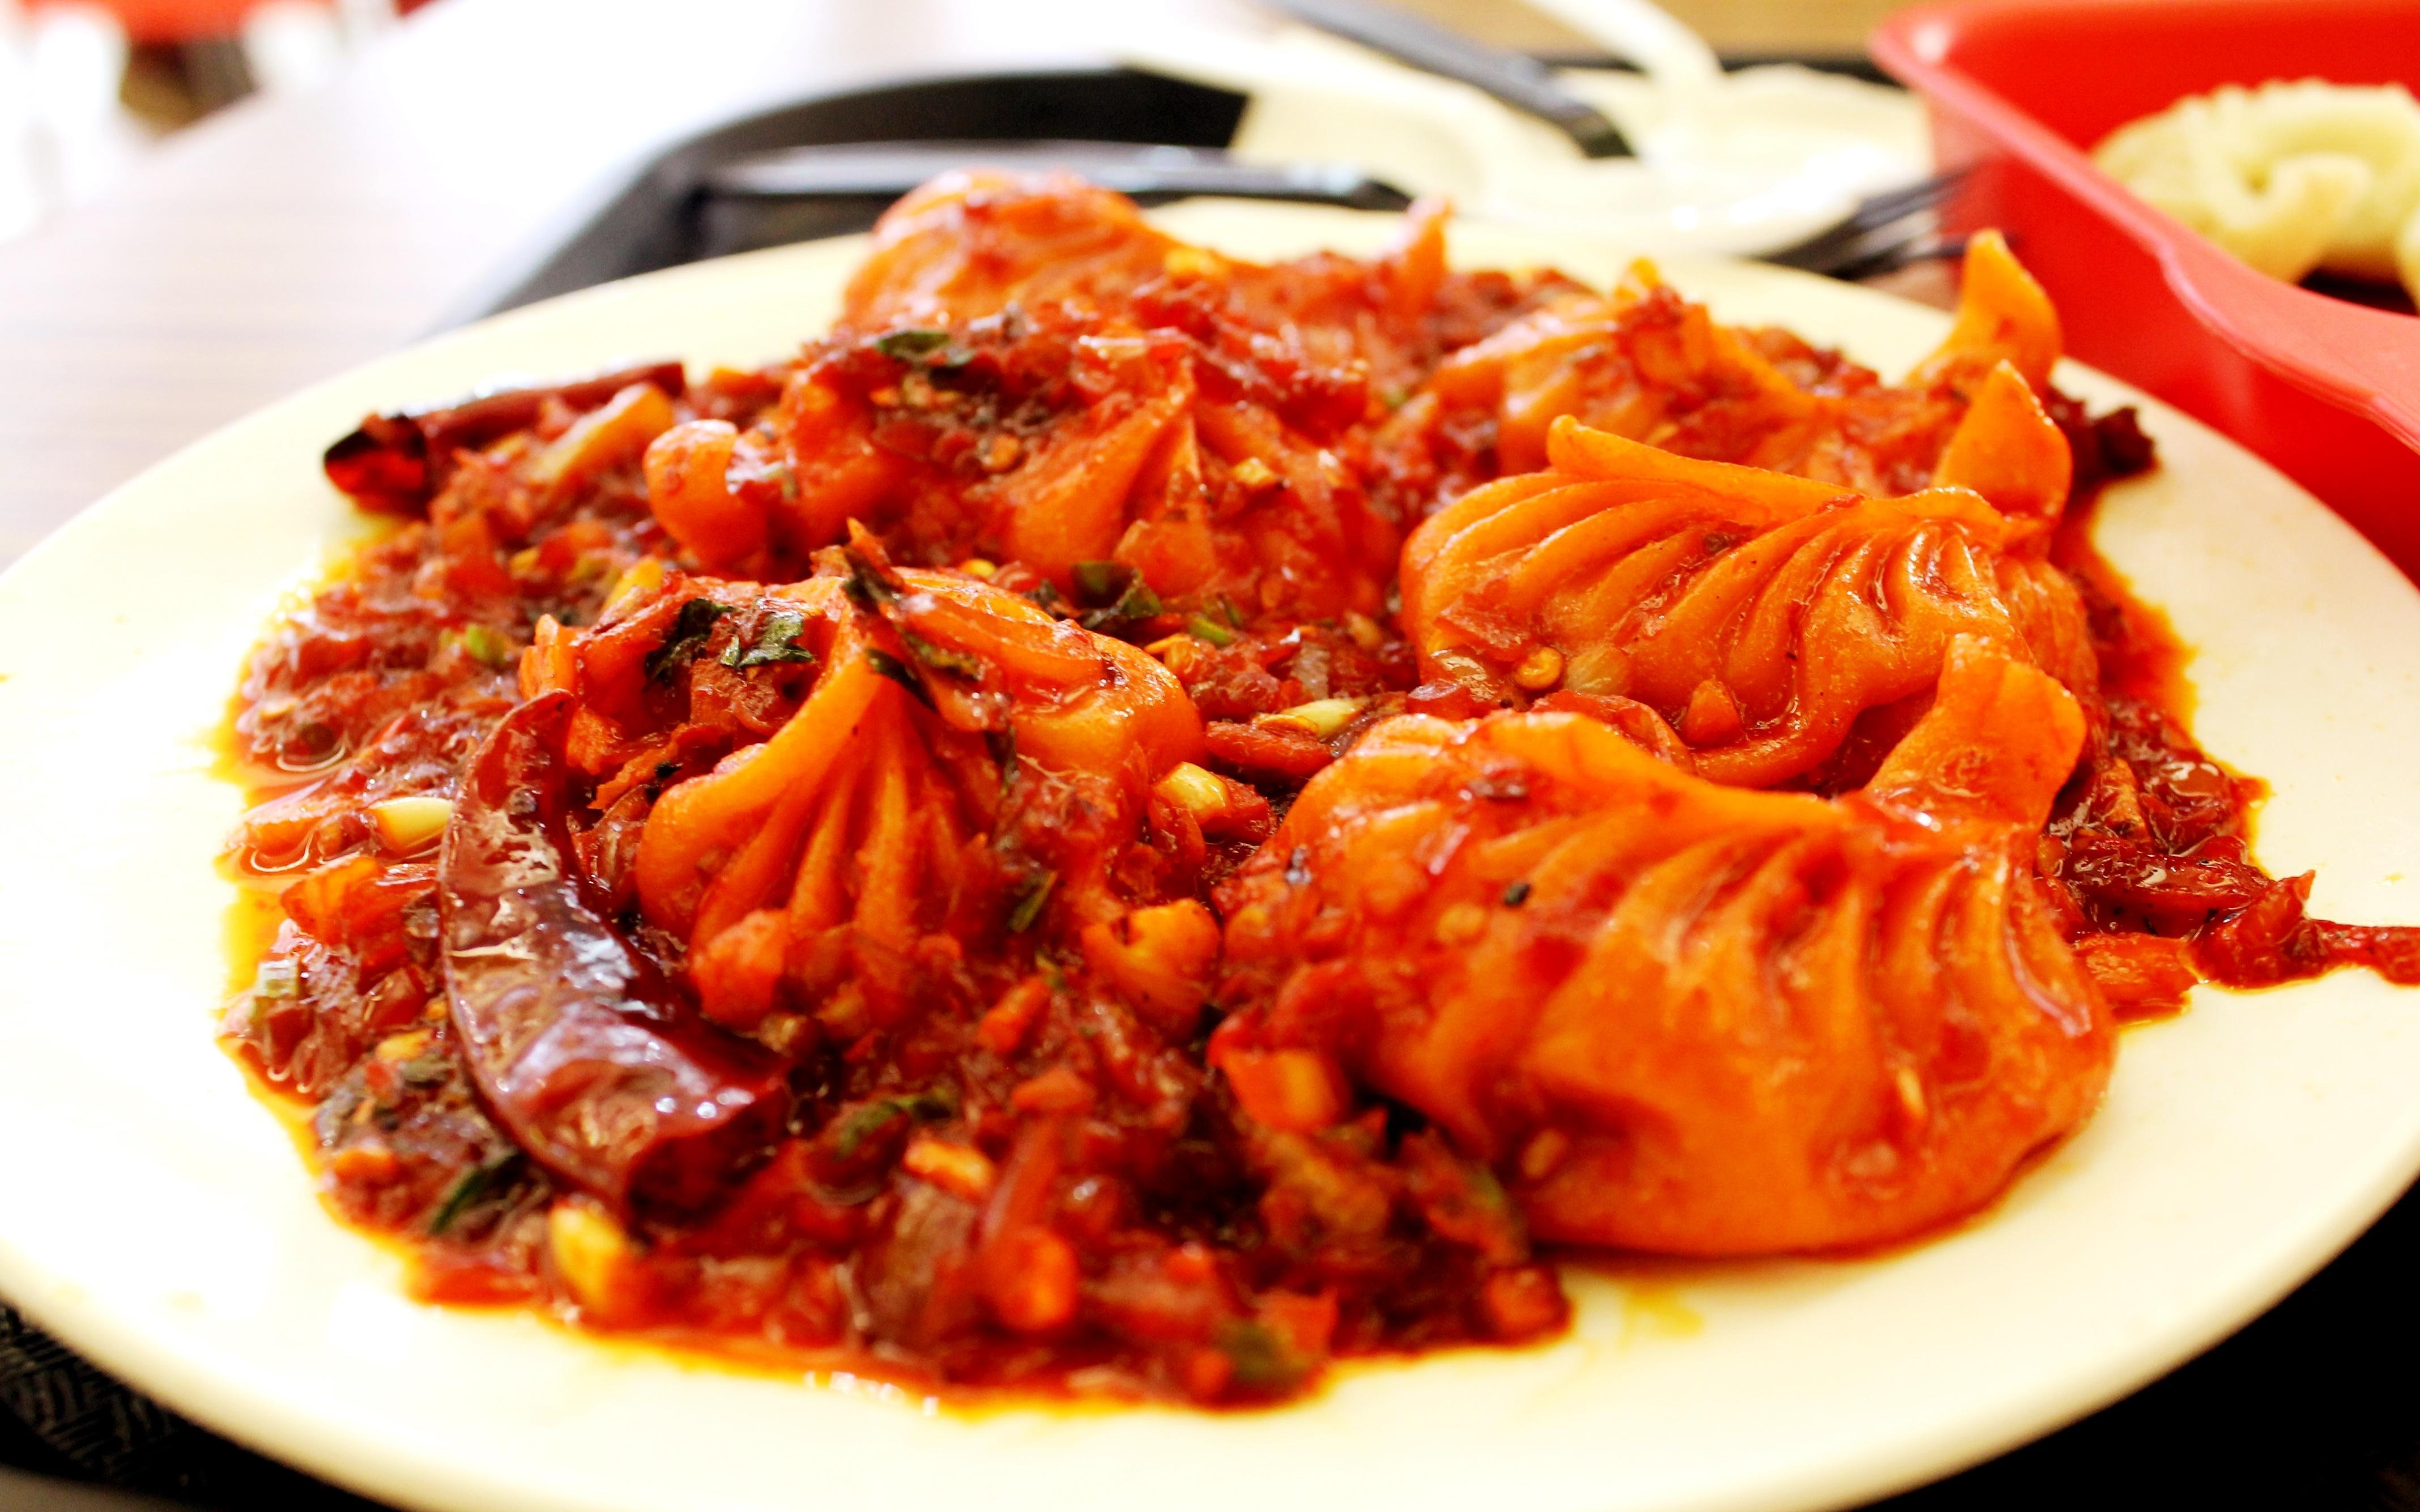momos: (1225, 638, 2113, 1258), (538, 530, 1206, 1040), (1399, 416, 2094, 789)
